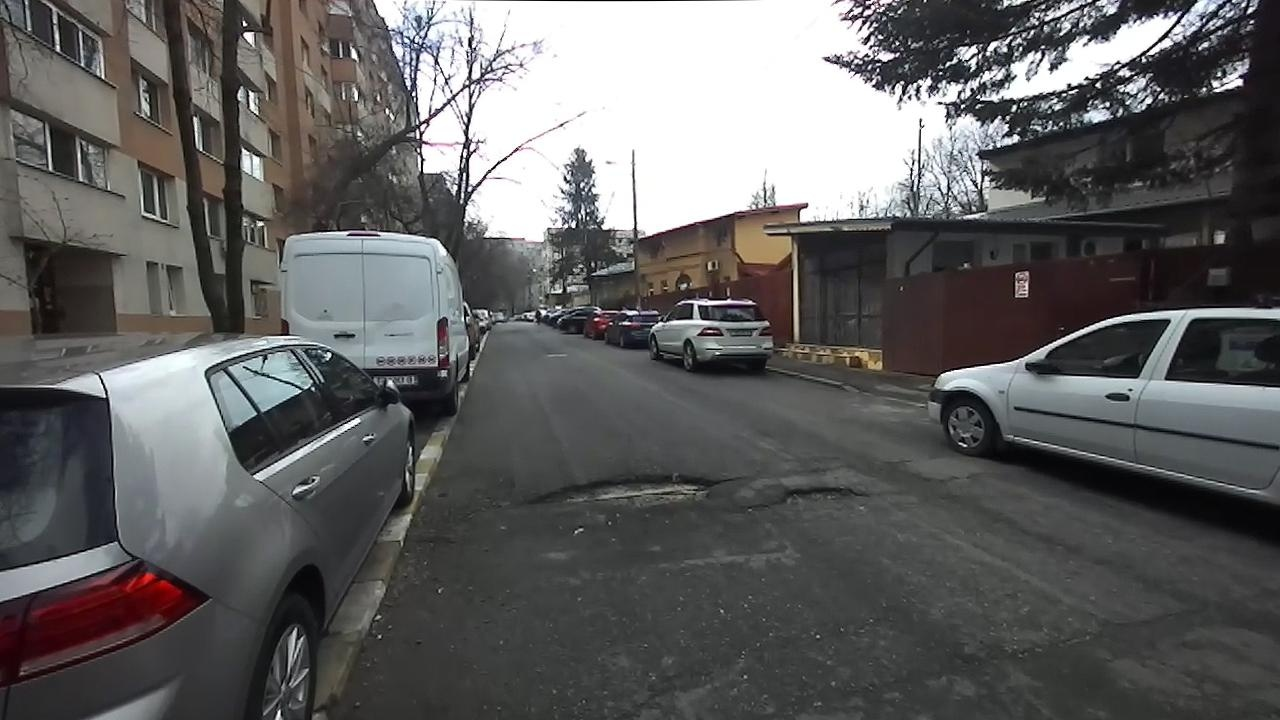pothole: (512, 470, 741, 522), (744, 483, 869, 515)
